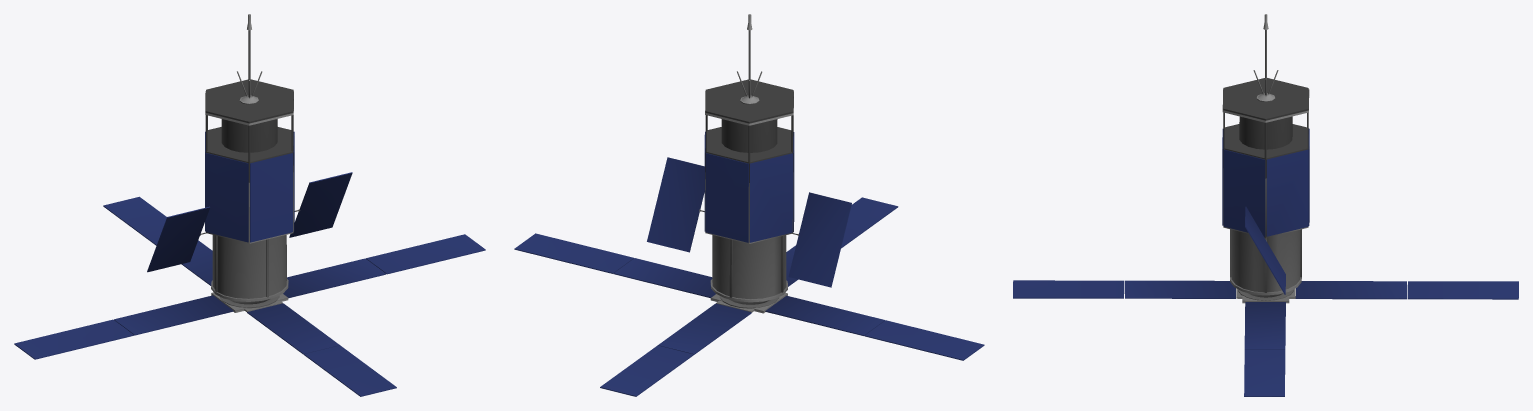
File: space-satellites-satellite_v7.fbx
The picture shows the model from 3 angles, left to right: view 1: azimuth 30°, elevation 25°; view 2: azimuth 150°, elevation 25°; view 3: azimuth 270°, elevation 25°; orthographic projection. The views are drawn at different scales.
Visible parts, largest first — view 1: Satellite_v7; view 2: Satellite_v7; view 3: Satellite_v7.
Boxes of the visible parts, x1,y1,x2,y2 form: Satellite_v7: (14,14,485,396); Satellite_v7: (514,14,984,396); Satellite_v7: (1013,14,1518,396).
Bounding box in the file's own units: 8 × 4.83 × 8.
